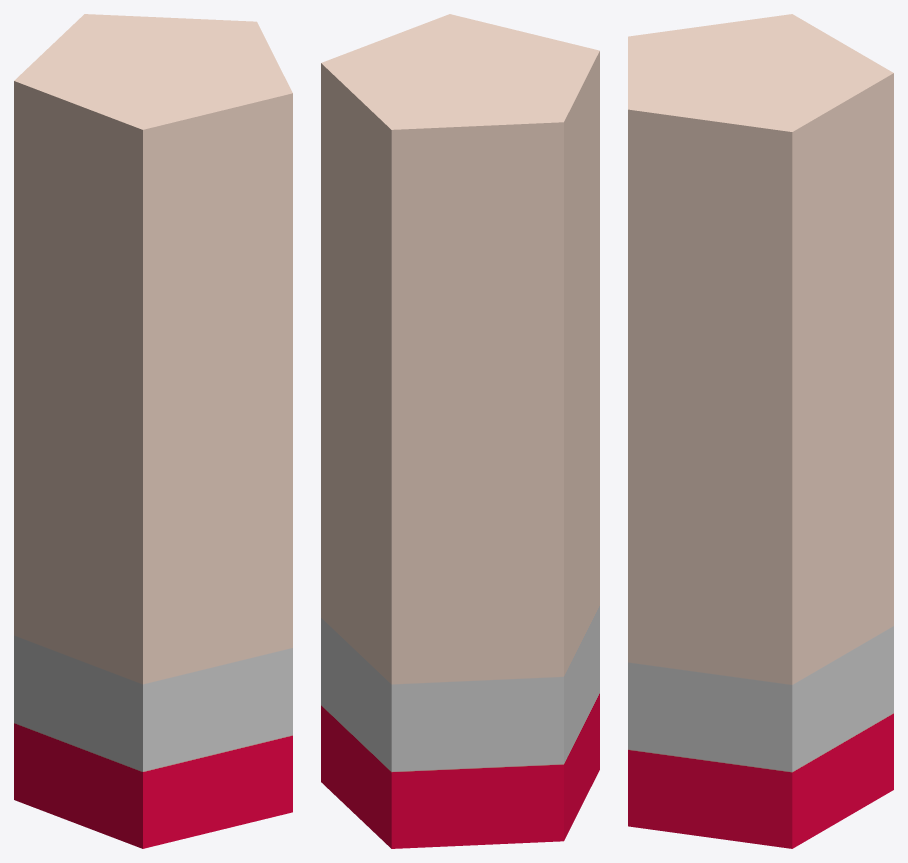
File: legL.obj
The picture shows the model from 3 angles, left to right: view 1: azimuth 30°, elevation 25°; view 2: azimuth 150°, elevation 25°; view 3: azimuth 270°, elevation 25°; orthographic projection.
Visible parts, largest first — view 1: 円柱.004; view 2: 円柱.004; view 3: 円柱.004.
Part boxes in pixels (x1,y1,x2,y2): 円柱.004: [14, 14, 292, 848]; 円柱.004: [321, 14, 599, 848]; 円柱.004: [628, 14, 893, 848].
Bounding box in the file's own units: 0.4213 × 1.19 × 0.4007.
Materials: 1 (1 with a texture image).
